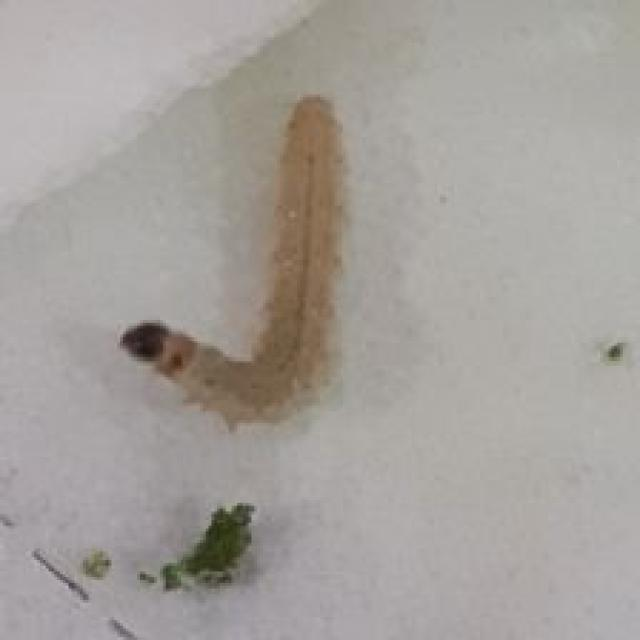white mucus: (109, 76, 376, 440)
